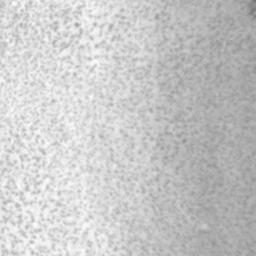Pitted surface: (0, 0, 207, 256), (249, 0, 256, 19)
